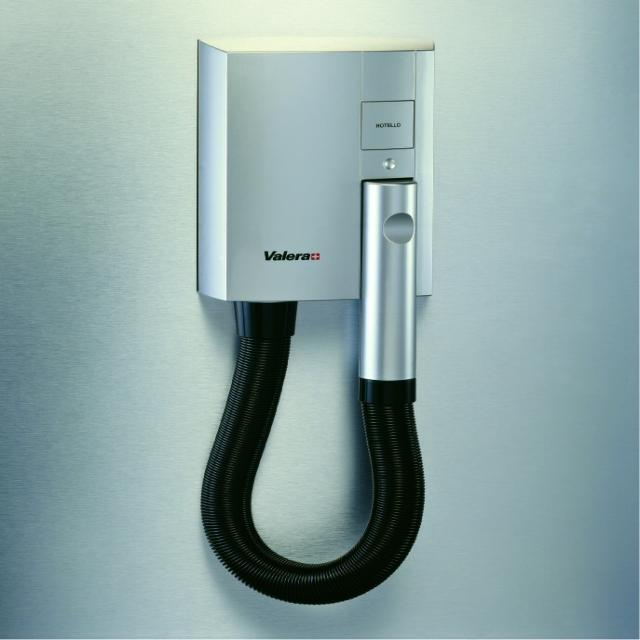dryer: (162, 16, 461, 613)
